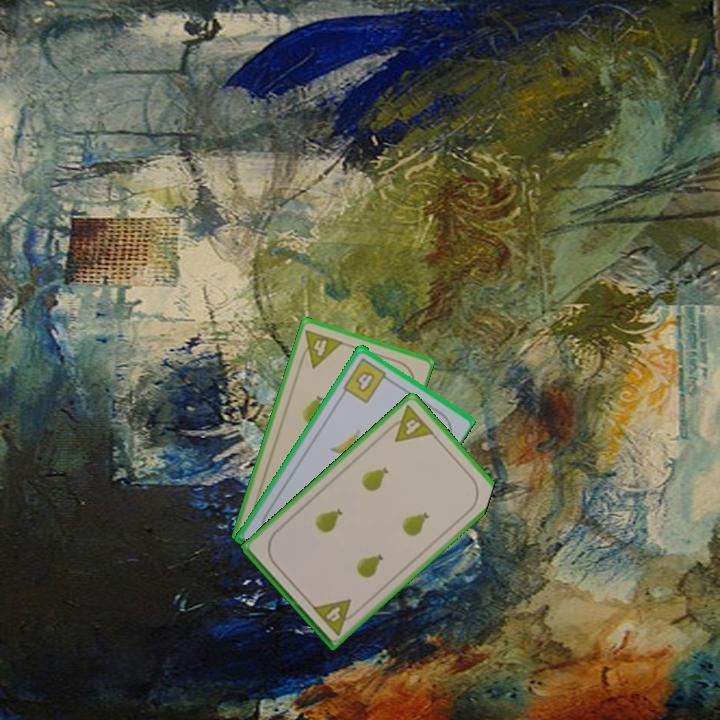4b: (339, 354, 394, 405)
4p: (382, 401, 437, 445), (309, 595, 362, 638), (296, 326, 345, 371)
